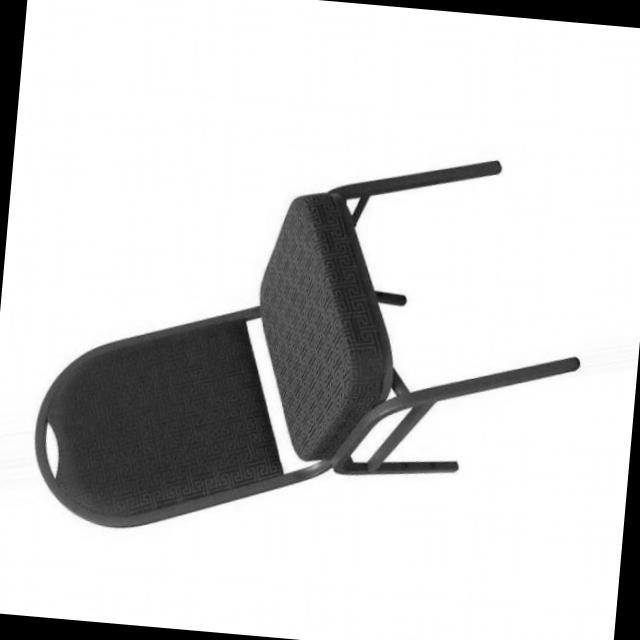chair: (24, 114, 596, 566)
